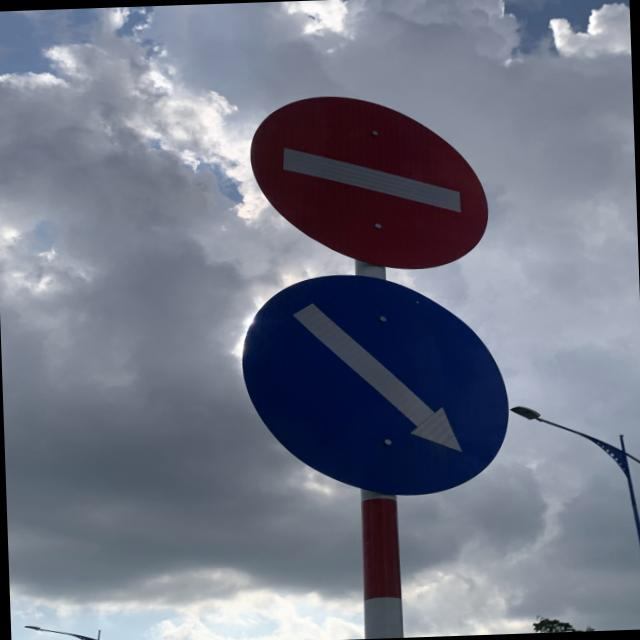Cam_Di_Nguoc_Chieu: (249, 88, 492, 272)
Chi_Huong_Di_Phai: (234, 266, 518, 504)
